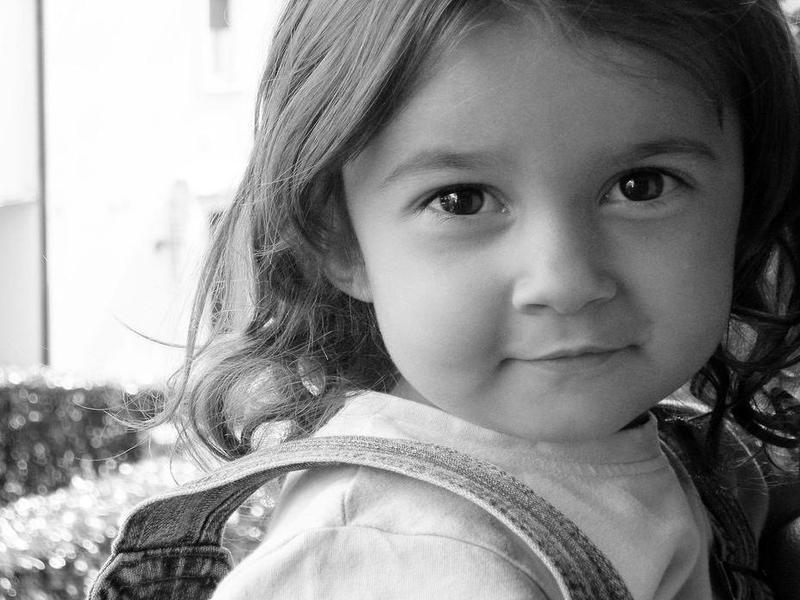person: (135, 1, 800, 600)
